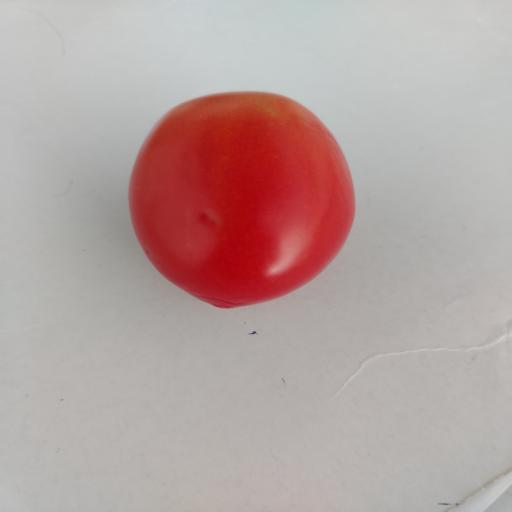ripe: (129, 92, 354, 307)
